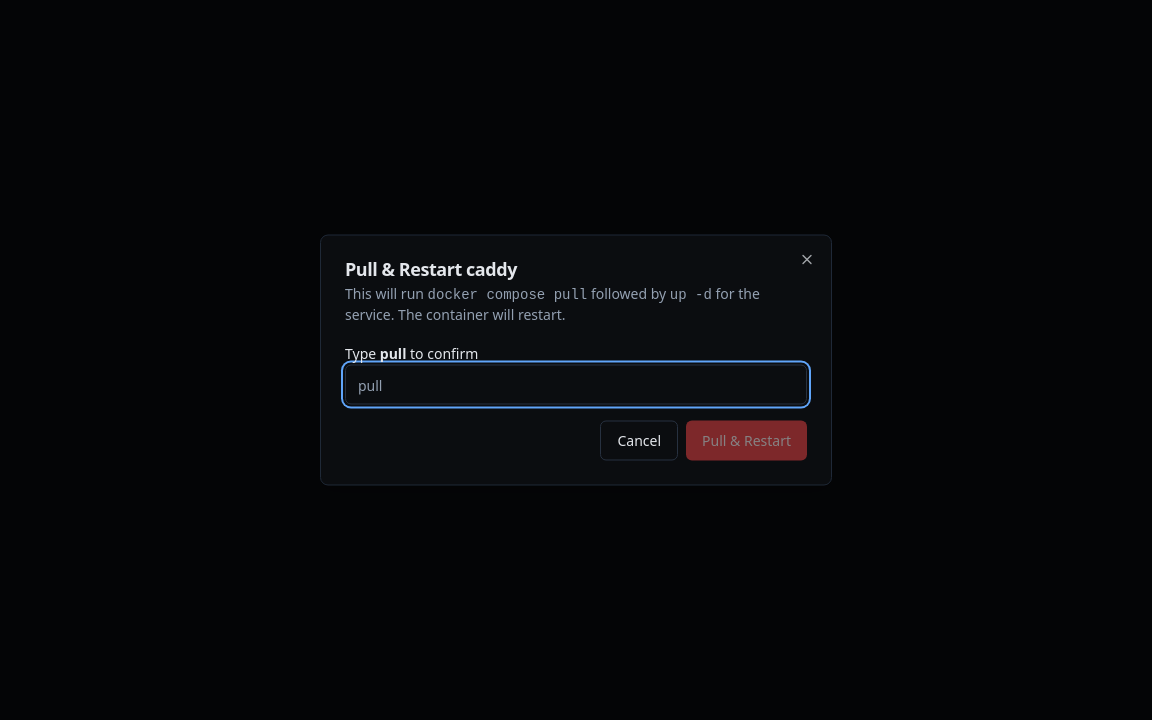
Test case: PullRestartModal › disables the submit button until phrase matches "pull"
Check: the button "Pull & Restart" is disabled, box x1=686 y1=420 x2=807 y2=460
In the field labelled "Type pull to confirm": {"x": 576, "y": 384} x1=345 y1=364 x2=807 y2=404, type "wrong"
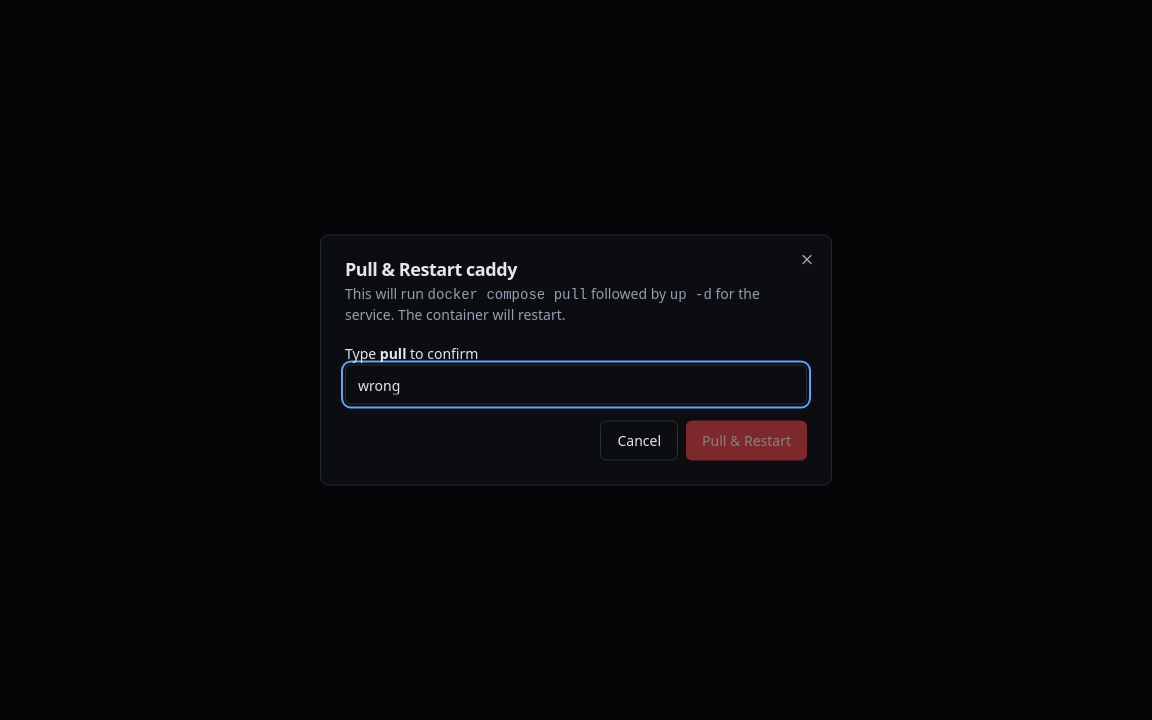
Check: the button "Pull & Restart" is disabled, box x1=686 y1=420 x2=807 y2=460
Replace the text in the field labelled "Type pull to confirm" with "pull": {"x": 576, "y": 384} x1=345 y1=364 x2=807 y2=404
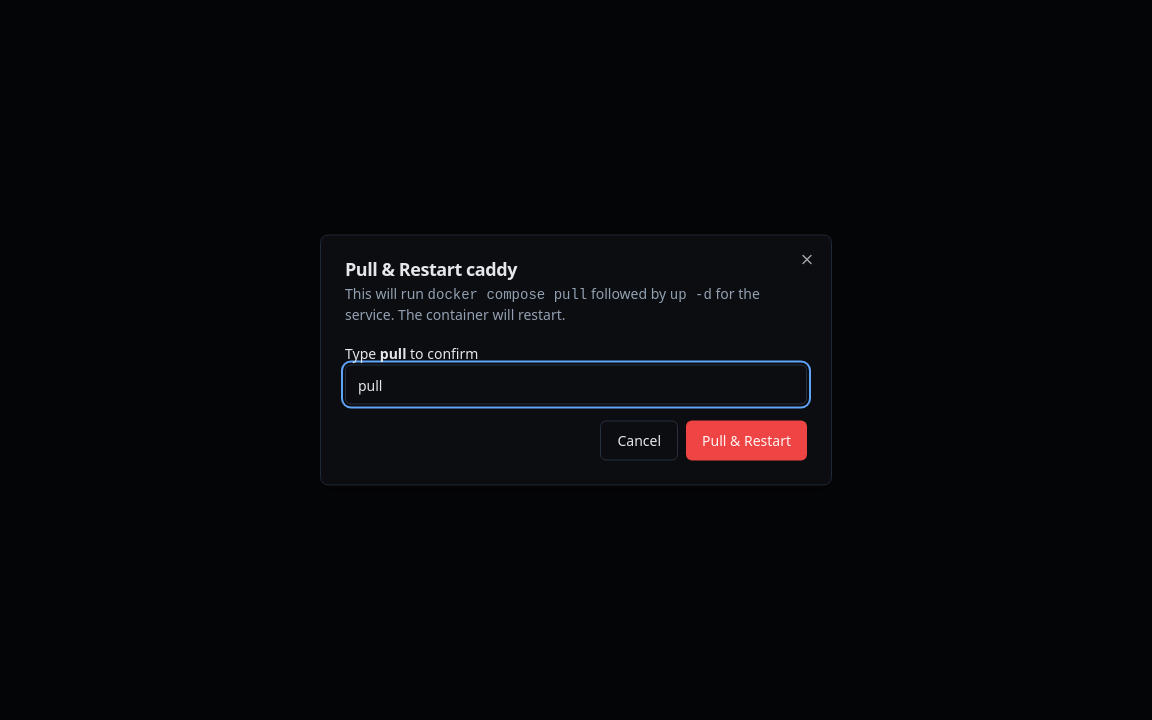
Check: the button "Pull & Restart" is enabled, box x1=686 y1=420 x2=807 y2=460
